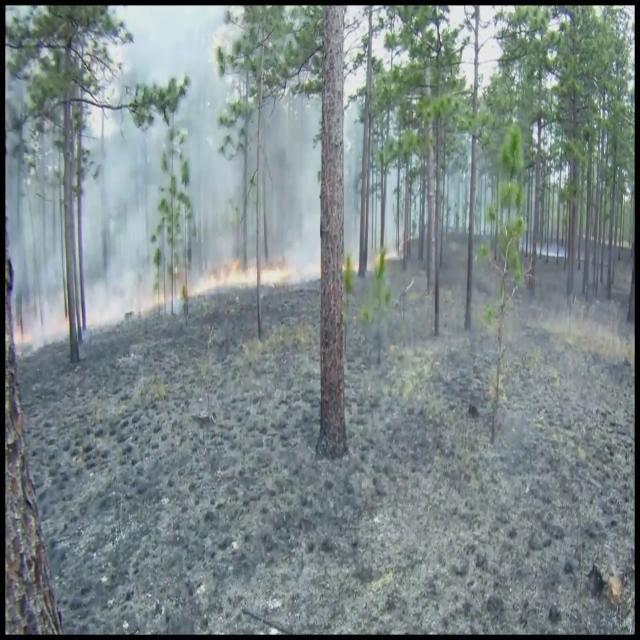Smoke: (9, 30, 296, 331)
